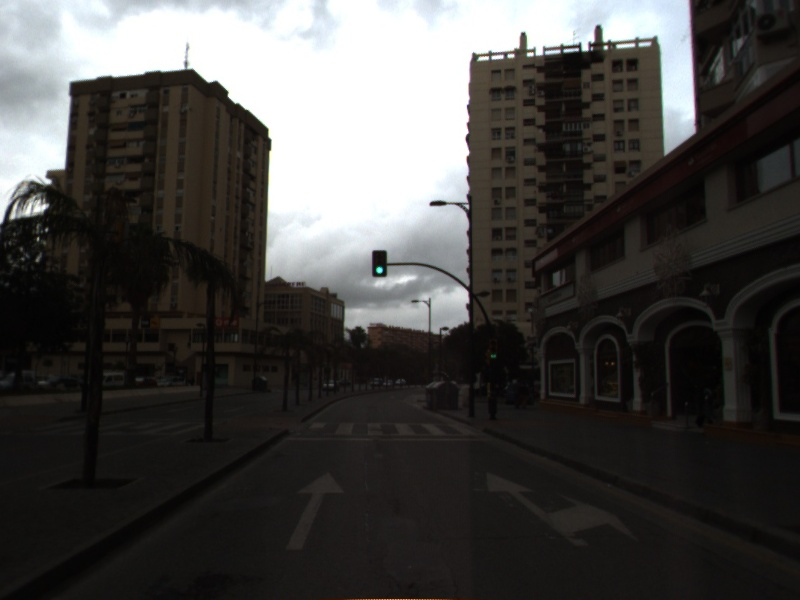STRAIGHT: (283, 468, 348, 553)
STRAIGHT_RIGHT: (483, 469, 640, 548)
